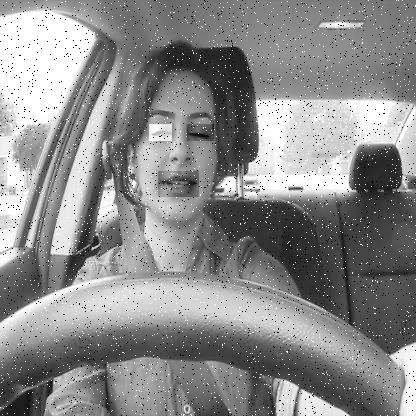seatbelt: (102, 29, 226, 416)
